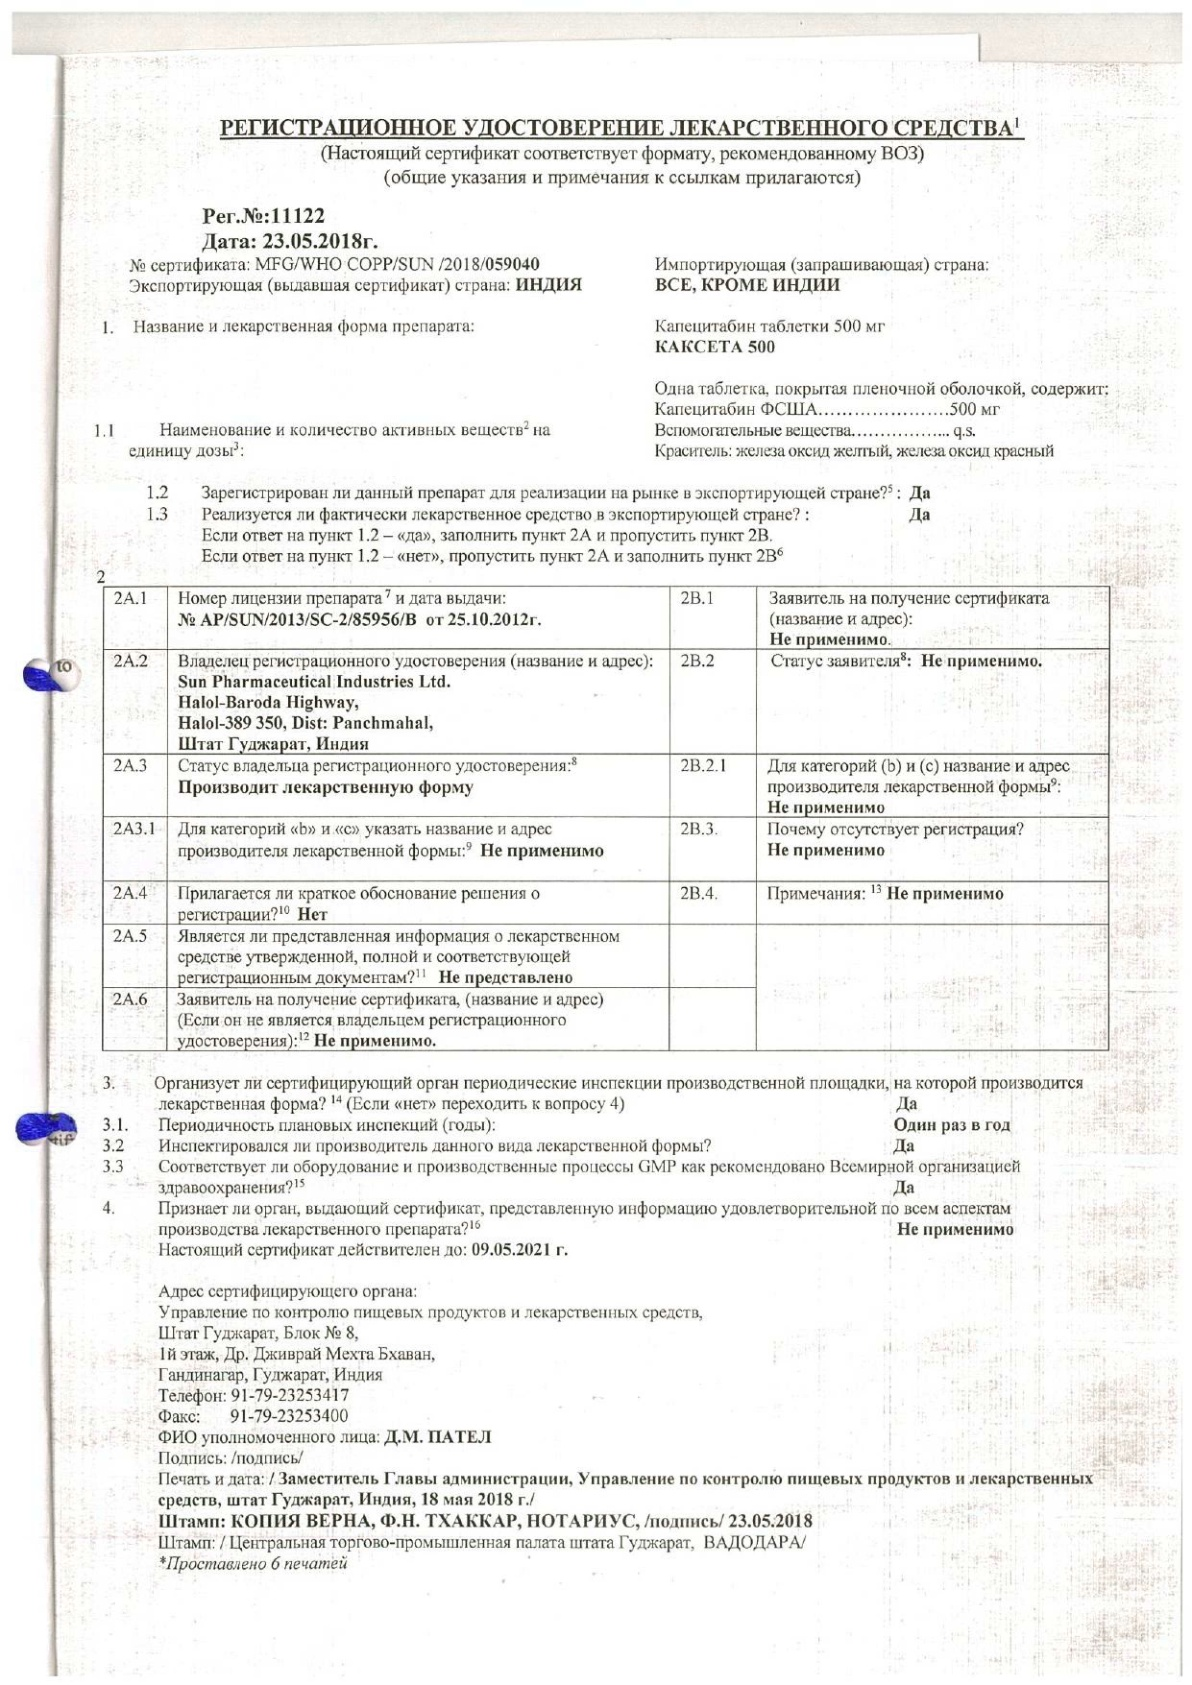merged_cells: (102, 584, 1111, 1052)
